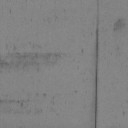surface scratch: (94, 16, 99, 128), (114, 19, 122, 27), (54, 54, 60, 57)
